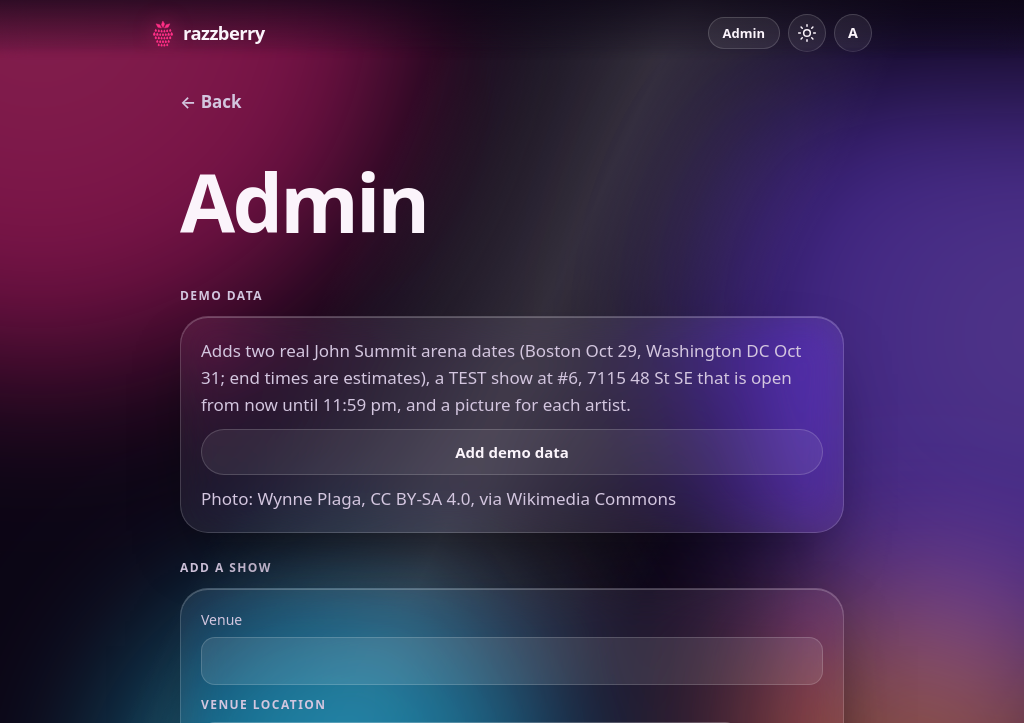
admin page › adds a show from the form, with a lineup, and refreshes the list
Type "Foundry 47" into the field labelled "Venue" at (512, 661), box [201,637,823,685]
(page scrolled)
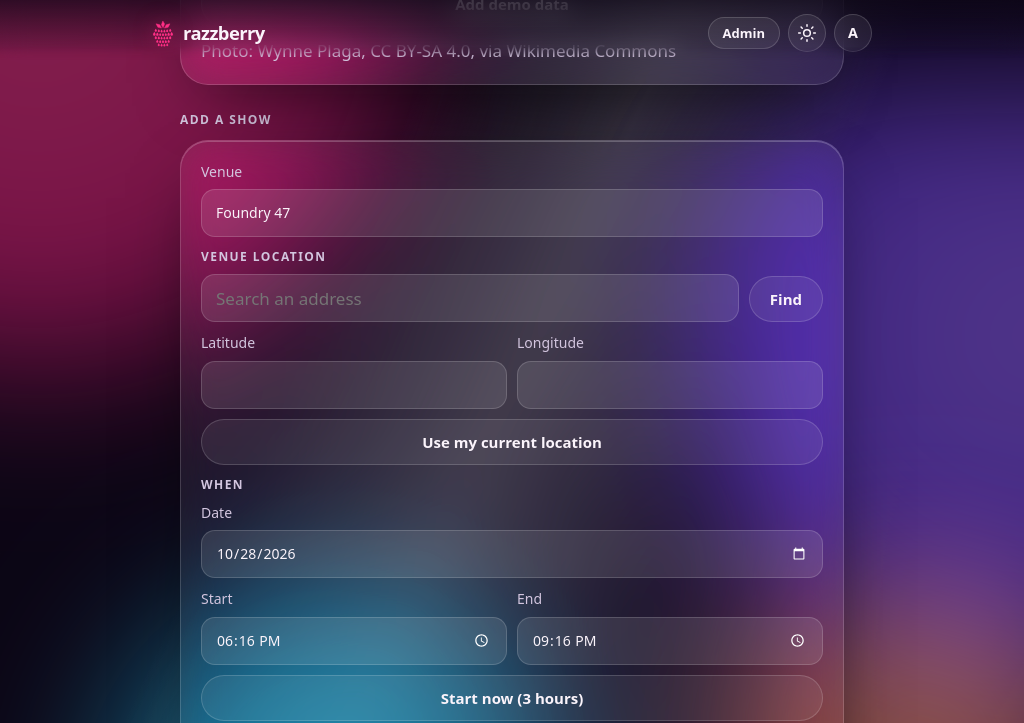
Type "51.0447" into the field labelled "Latitude" at (354, 385), box [201,361,507,409]
Type "-114.0719" into the field labelled "Longitude" at (670, 385), box [517,361,823,409]
Click the button "Start now (3 hours)" at (512, 698), box [201,675,823,721]
(page scrolled)
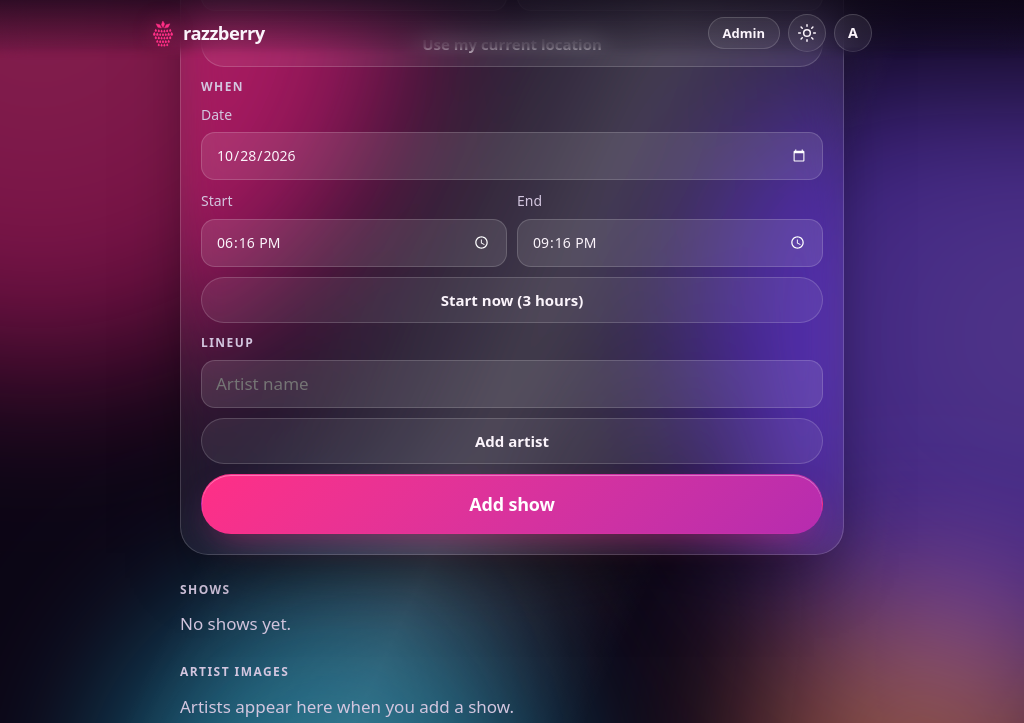
Type "Alpha" into the field named "Artist 1" at (512, 384), box [201,360,823,408]
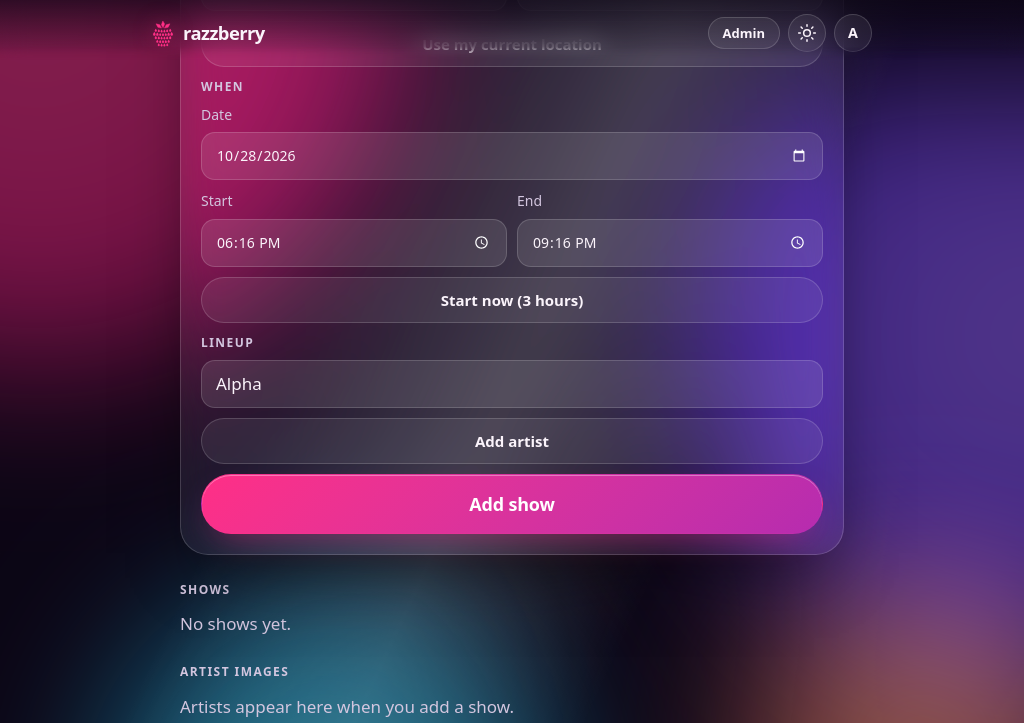
Click the button "Add artist" at (512, 441), box [201,418,823,464]
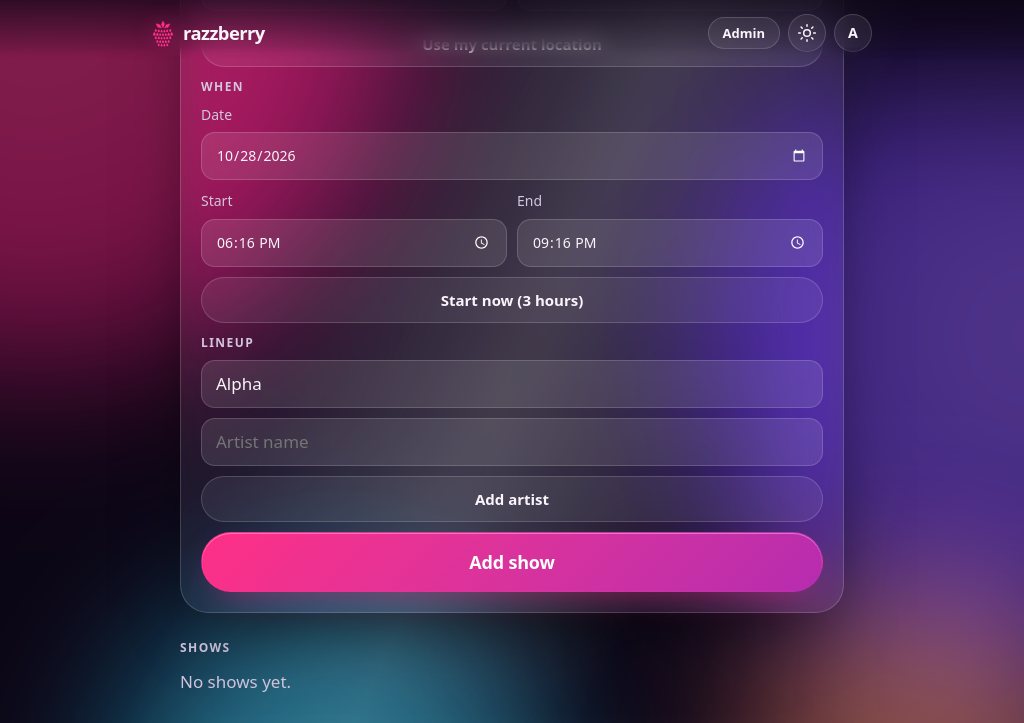
Type "Beta" into the field named "Artist 2" at (512, 442), box [201,418,823,466]
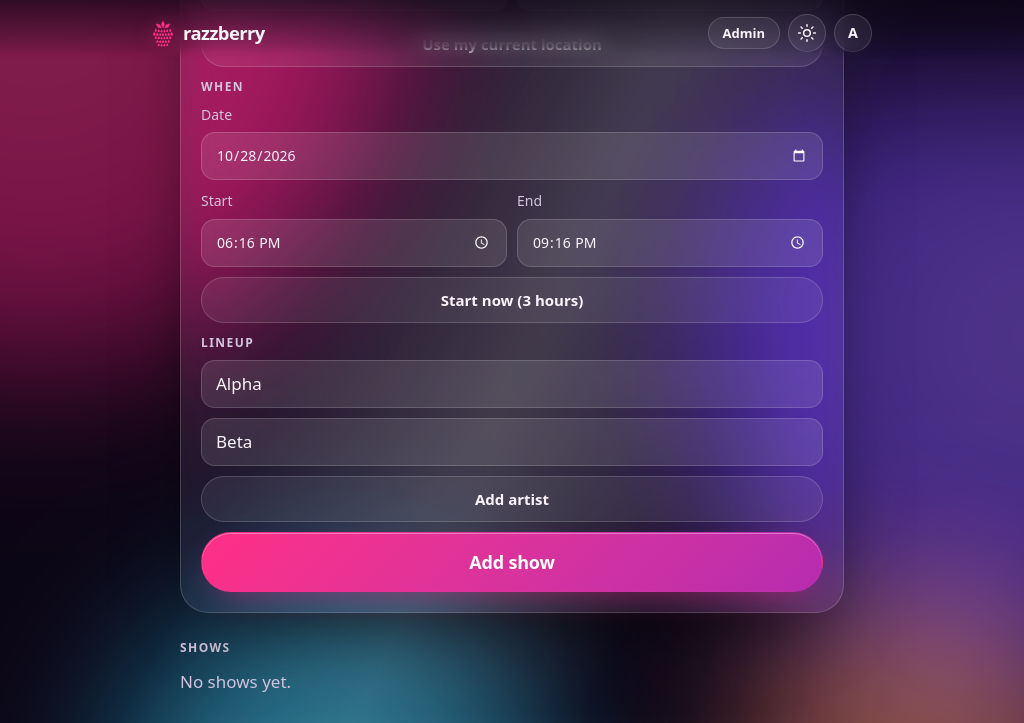
Click the button "Add show" at (512, 562), box [201,532,823,592]
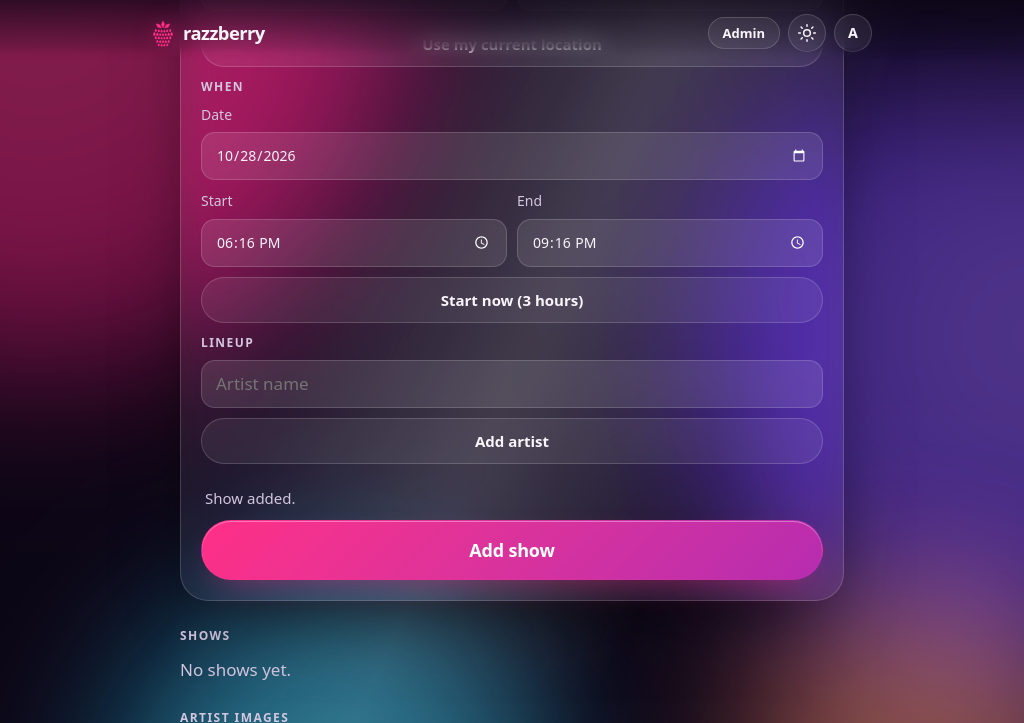
Expected: the text "Show added." is shown, [205,488,296,508]
